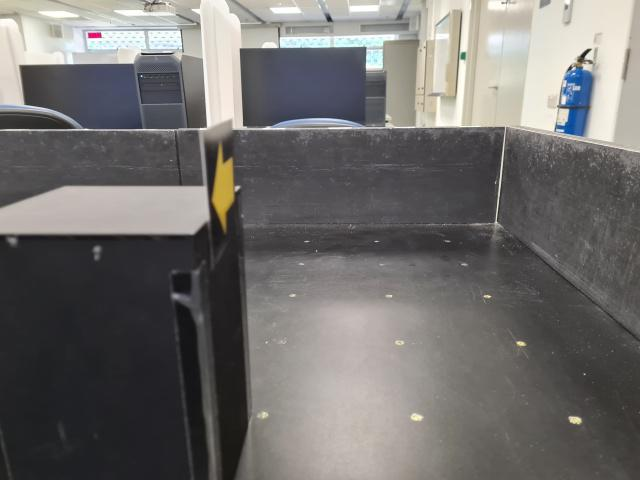right: (199, 117, 239, 269)
